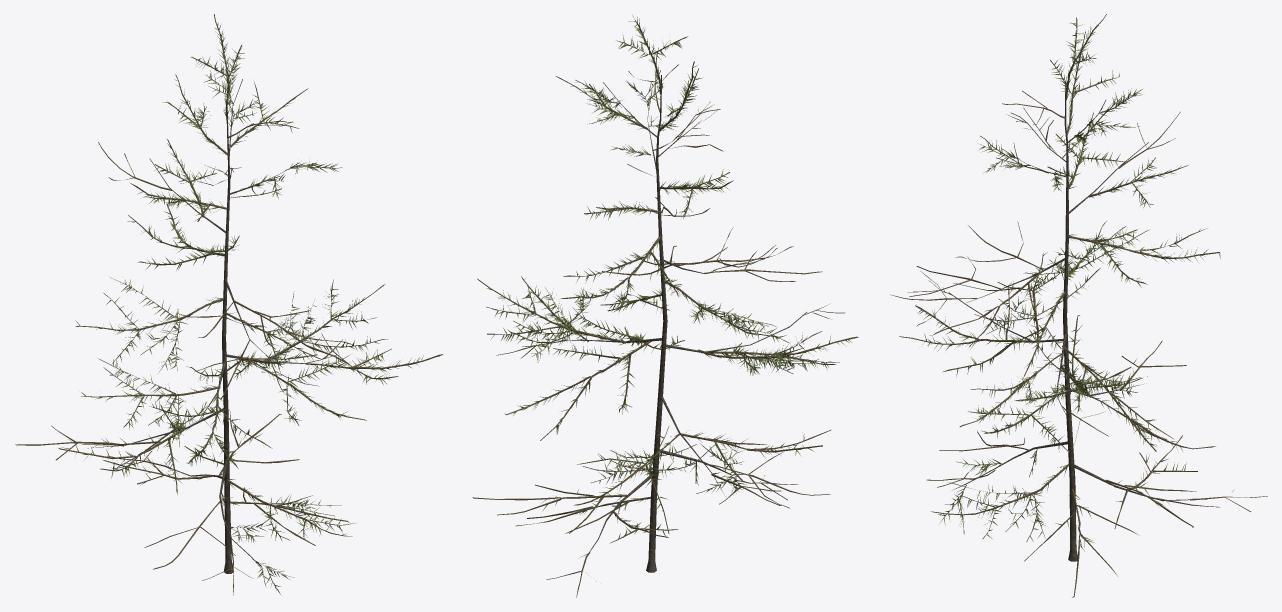
3 views of the same model, side by side, from view 1: azimuth 30°, elevation 25°; view 2: azimuth 150°, elevation 25°; view 3: azimuth 270°, elevation 25° (orthographic). The views are drawn at different scales.
Parts seen in each view (by area): view 1: Cylinder; view 2: Cylinder; view 3: Cylinder.
Part boxes in pixels (x1,y1,x2,y2): Cylinder: (15, 14, 442, 595); Cylinder: (472, 15, 858, 597); Cylinder: (890, 14, 1267, 597).
Bounding box in the file's own units: 0.838 × 1.28 × 0.8067.
Materials: 2 (2 with a texture image).
